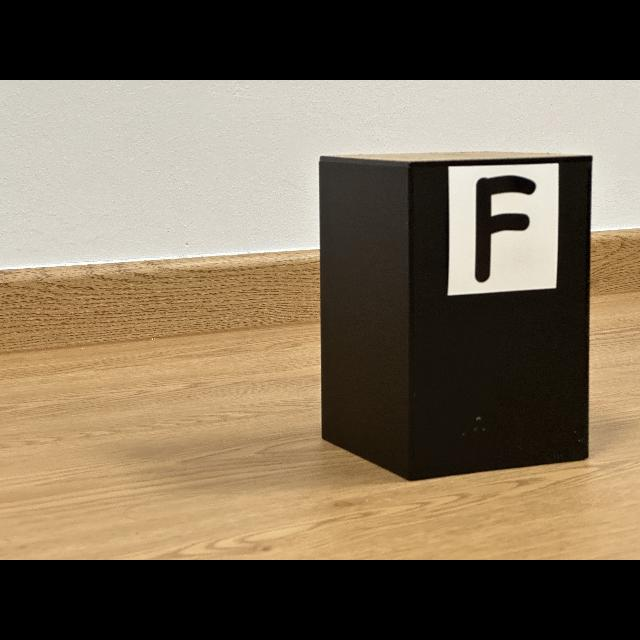F: (475, 175, 536, 282)
